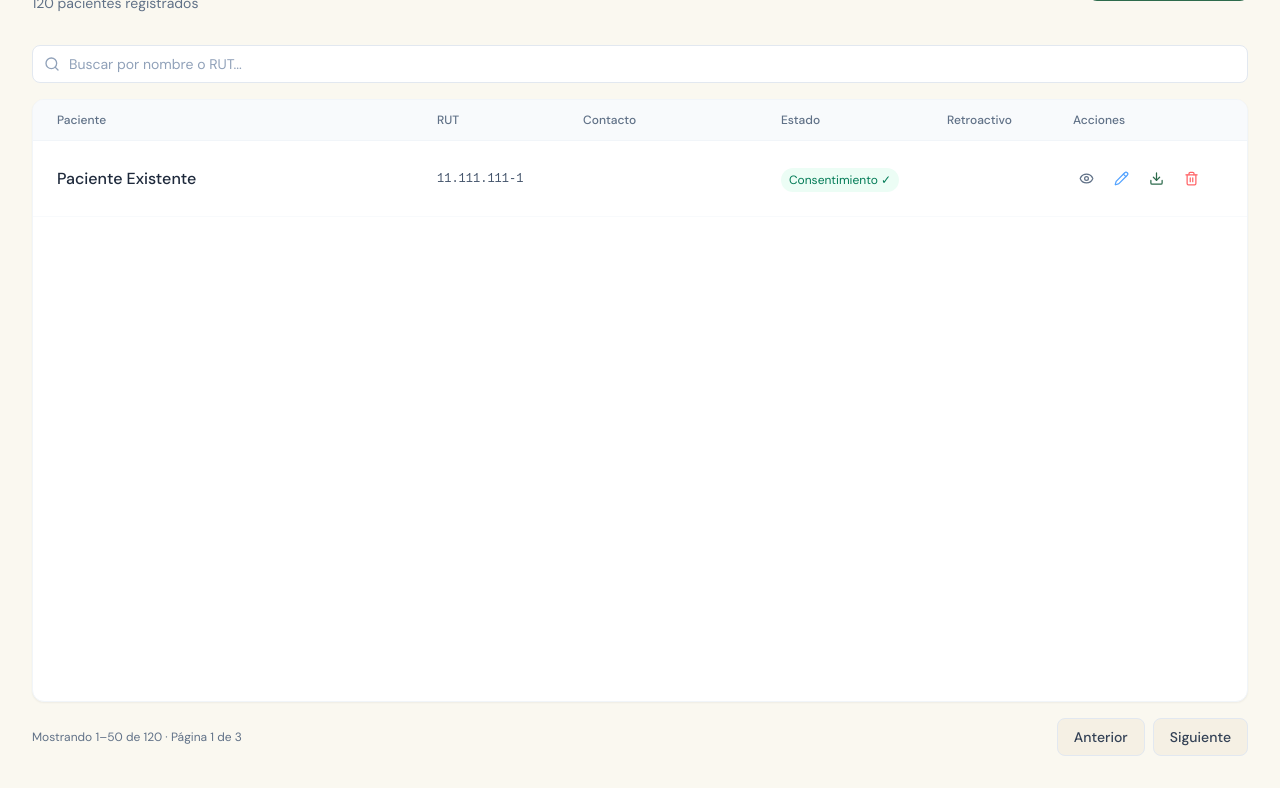
Test: PatientsPage › issue #290: buscar pide al servidor (con espera) y vuelve a la página 1
(page scrolled)
Click the button "Siguiente".
click(1200, 737)  # box [1153,718,1248,756]
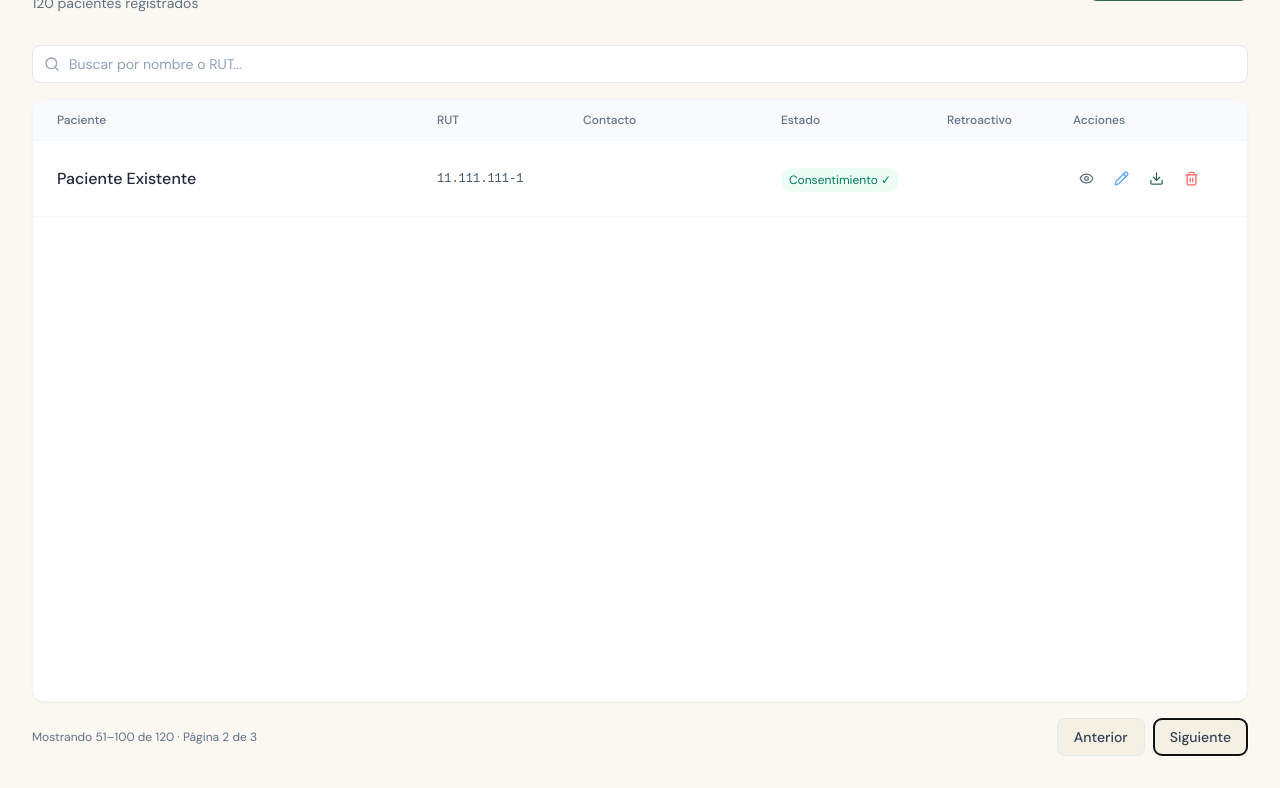
Type "Ana" into the field named "buscar pacientes".
click(640, 64); type("Ana")  # box [32,45,1248,83]
(page scrolled)
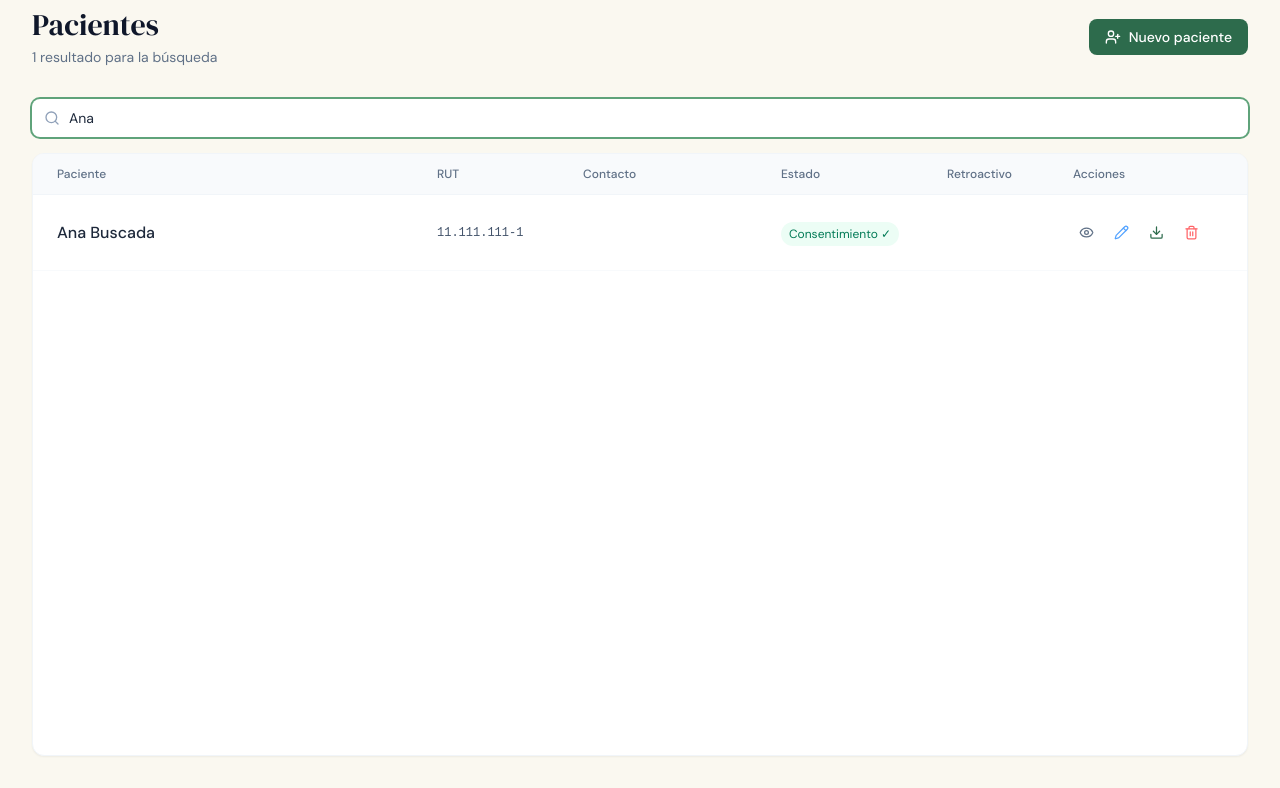
expect the text "Ana Buscada" is shown: met, box [57,222,155,242]
expect the text "1 resultado para la búsqueda" is shown: met, box [32,47,217,67]
